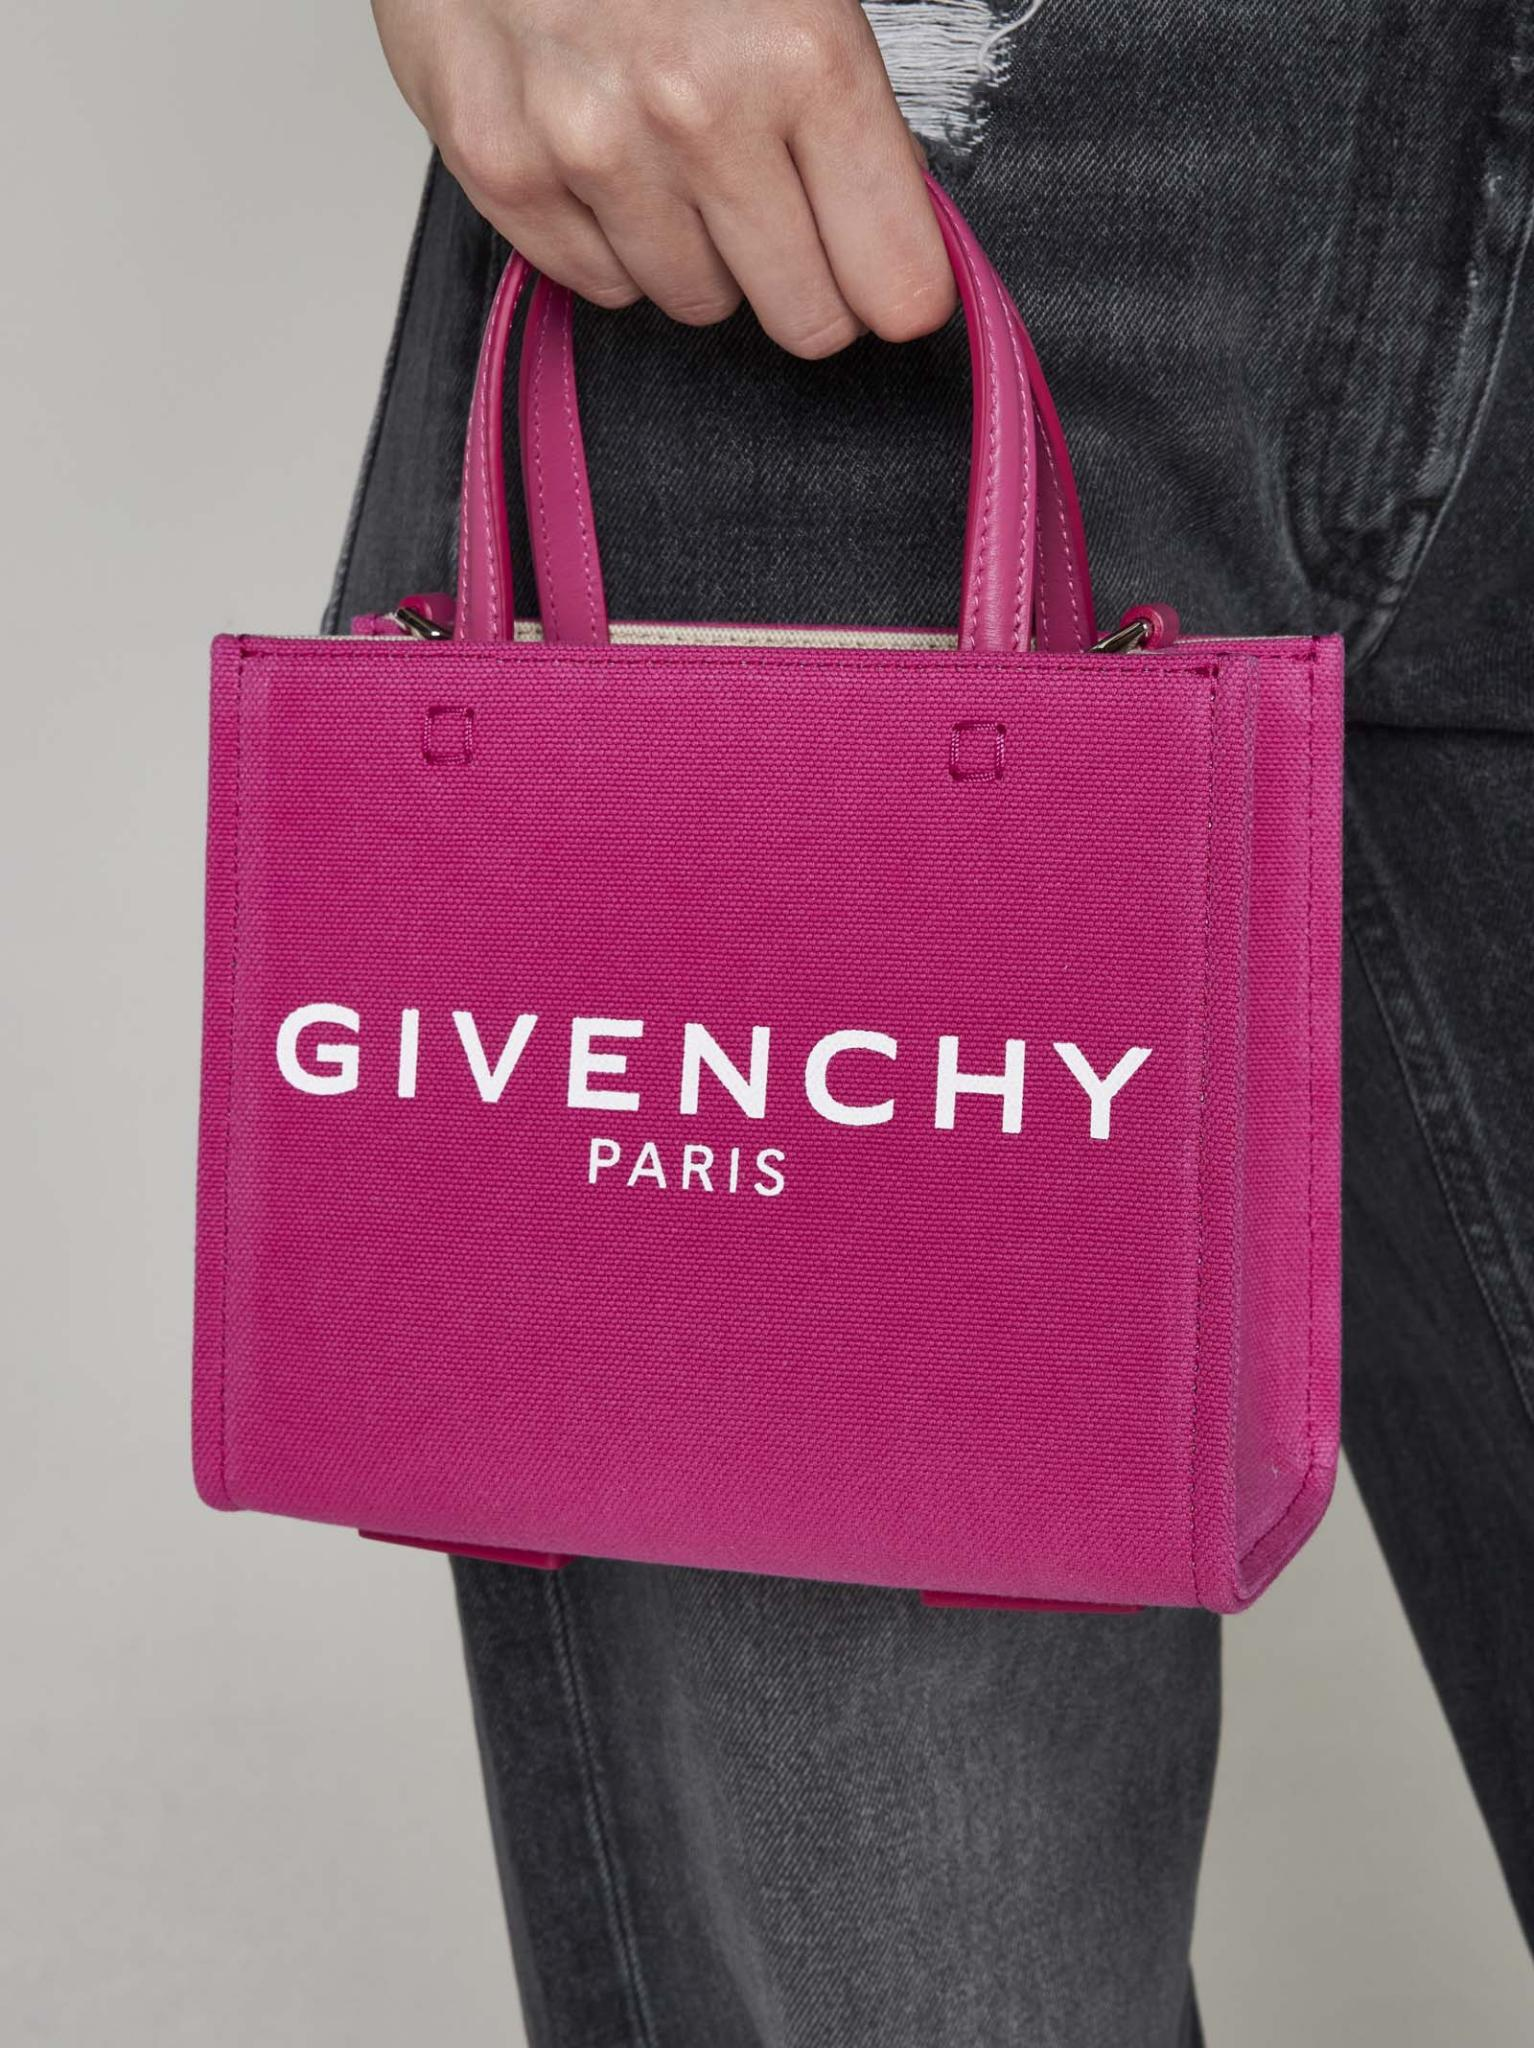GIVENCHY: (235, 989, 1176, 1142)
